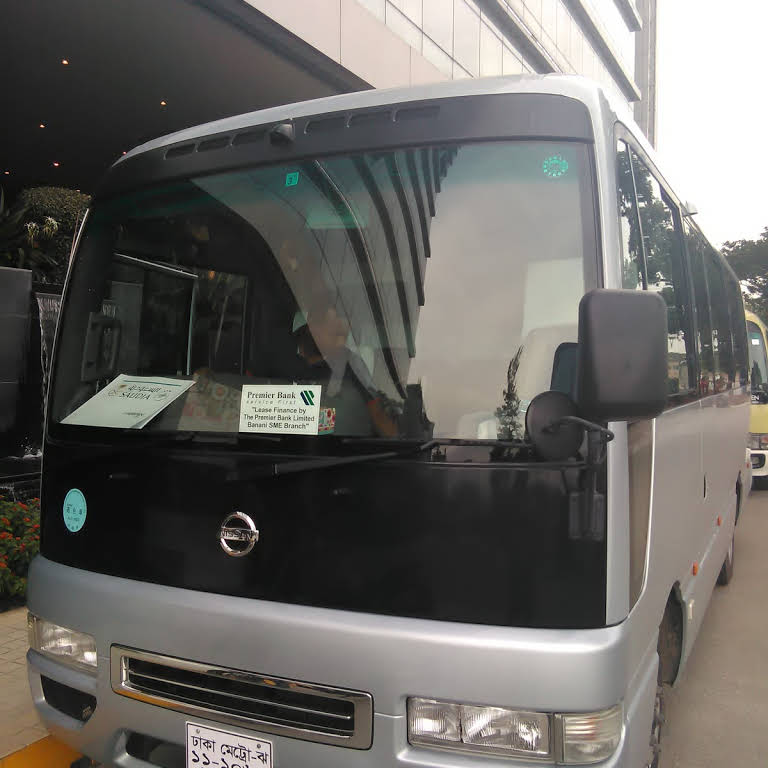minibus: (24, 71, 753, 768)
